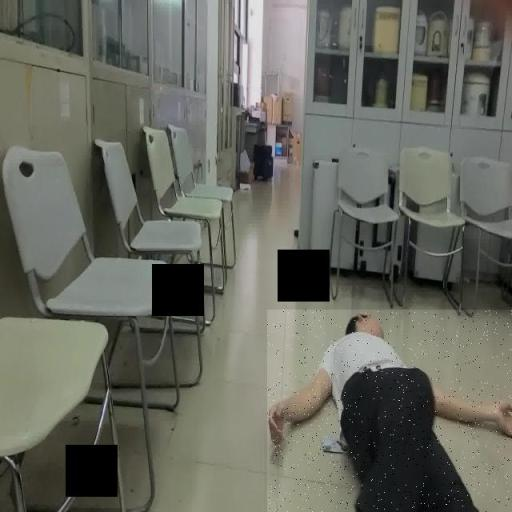Fall: (267, 309, 512, 512)
